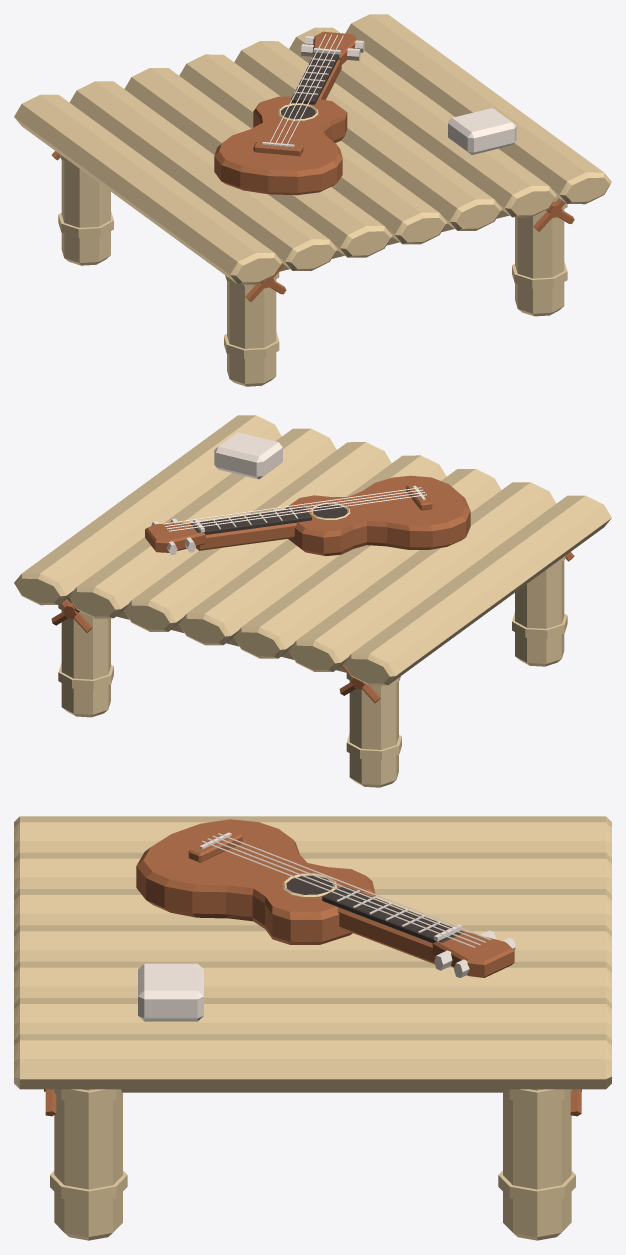
File: ukuleleTable.glb
3 renders of one model, top to bottom at view 1: azimuth 30°, elevation 25°; view 2: azimuth 150°, elevation 25°; view 3: azimuth 270°, elevation 25°, orthographic. The views are drawn at different scales.
Visible parts, largest first — view 1: ukuleleTable; view 2: ukuleleTable; view 3: ukuleleTable.
Boxes of the visible parts, x1,y1,x2,y2 form: ukuleleTable: [14, 14, 611, 386]; ukuleleTable: [14, 415, 611, 787]; ukuleleTable: [14, 816, 611, 1240].
Size of the model in its own units: 1.2 by 0.55 by 1.2.
1 material, 1 textured.
